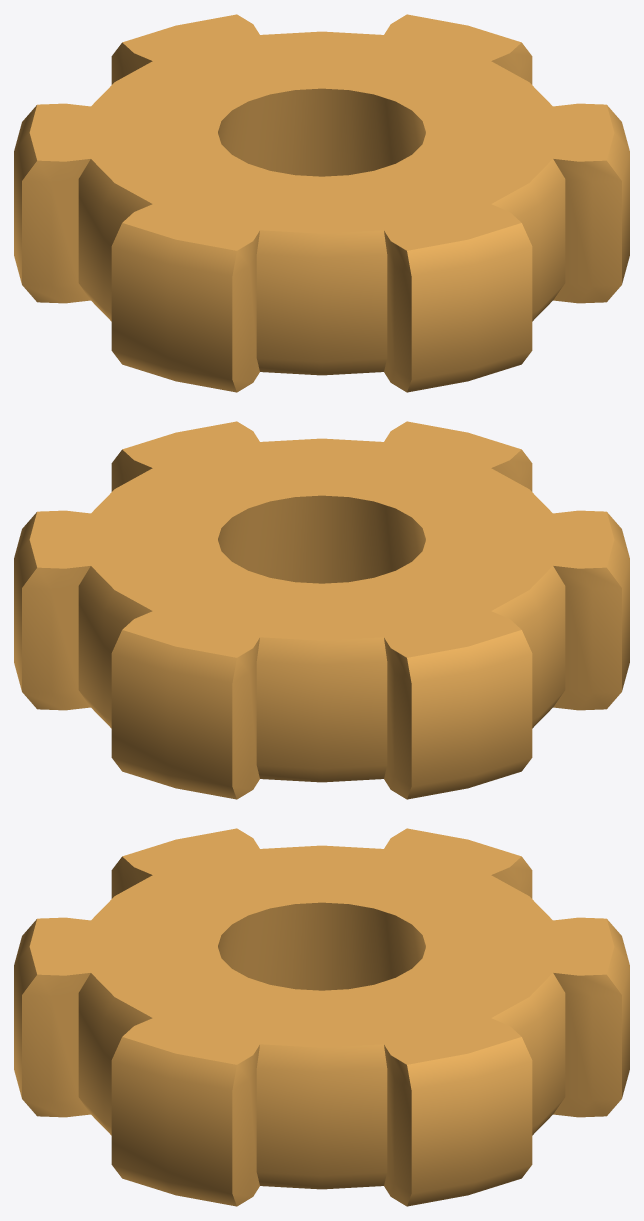
Rendered from Gear_6P_02.fbx.
The picture shows the model from 3 angles, top to bottom: view 1: azimuth 30°, elevation 25°; view 2: azimuth 150°, elevation 25°; view 3: azimuth 270°, elevation 25°; orthographic projection.
Visible parts, largest first — view 1: Gear_6P_02; view 2: Gear_6P_02; view 3: Gear_6P_02.
Part boxes in pixels (x1,y1,x2,y2): Gear_6P_02: (14, 14, 629, 392); Gear_6P_02: (14, 421, 629, 799); Gear_6P_02: (14, 828, 629, 1206).
Size of the model in its own units: 377 by 100 by 394.
